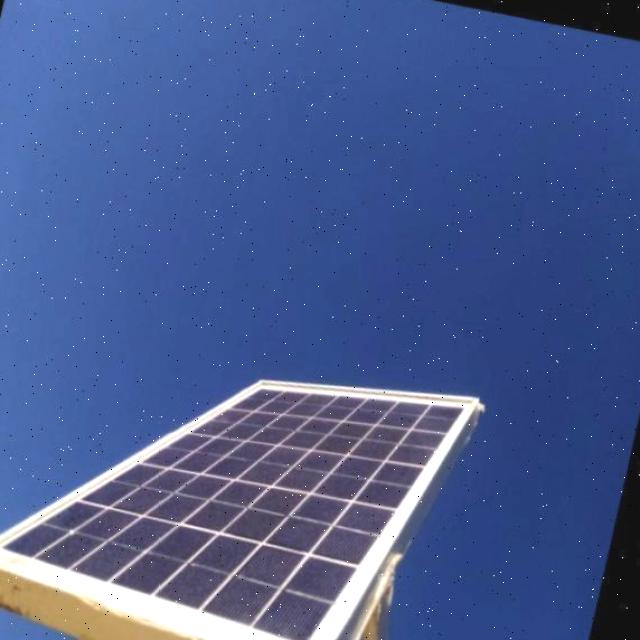Normal Solar Panel: (0, 308, 478, 640)
